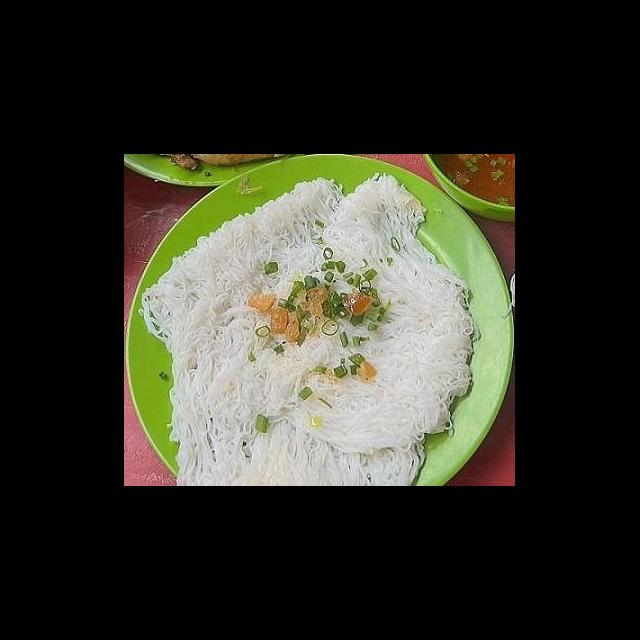banh hoi: (196, 171, 484, 458), (164, 287, 432, 486), (136, 171, 354, 363)
